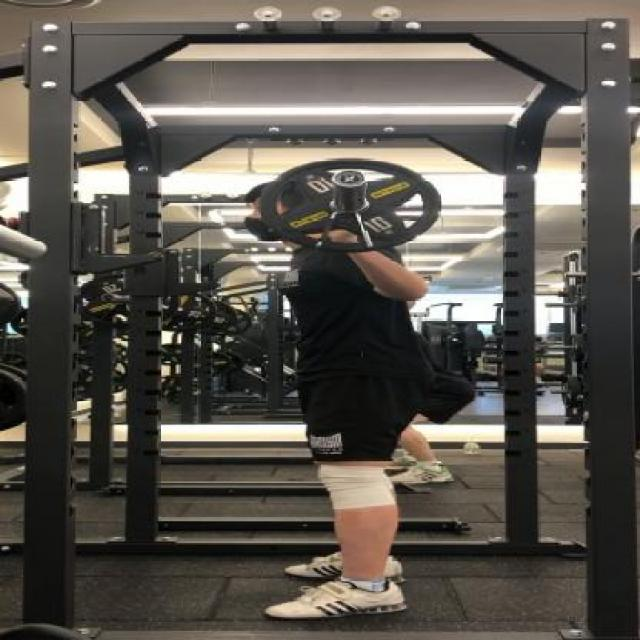Barbell: (328, 166, 376, 192)
